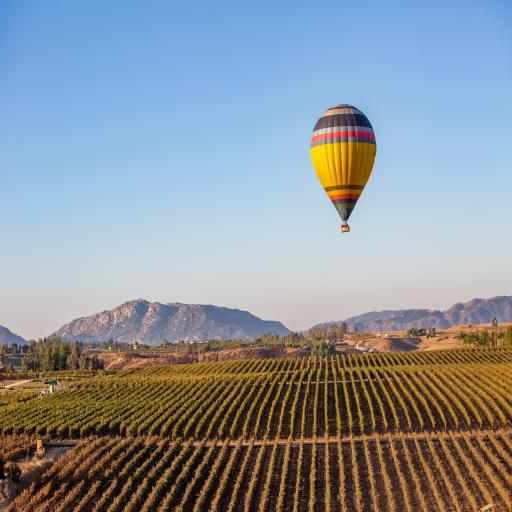hot air ballon: (311, 105, 376, 232)
